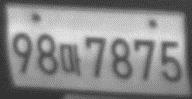5: (160, 40, 182, 83)
7: (83, 35, 107, 78), (134, 38, 156, 82)
8: (36, 33, 58, 75), (111, 38, 133, 79)
9: (10, 32, 33, 75)
마: (58, 42, 83, 77)
